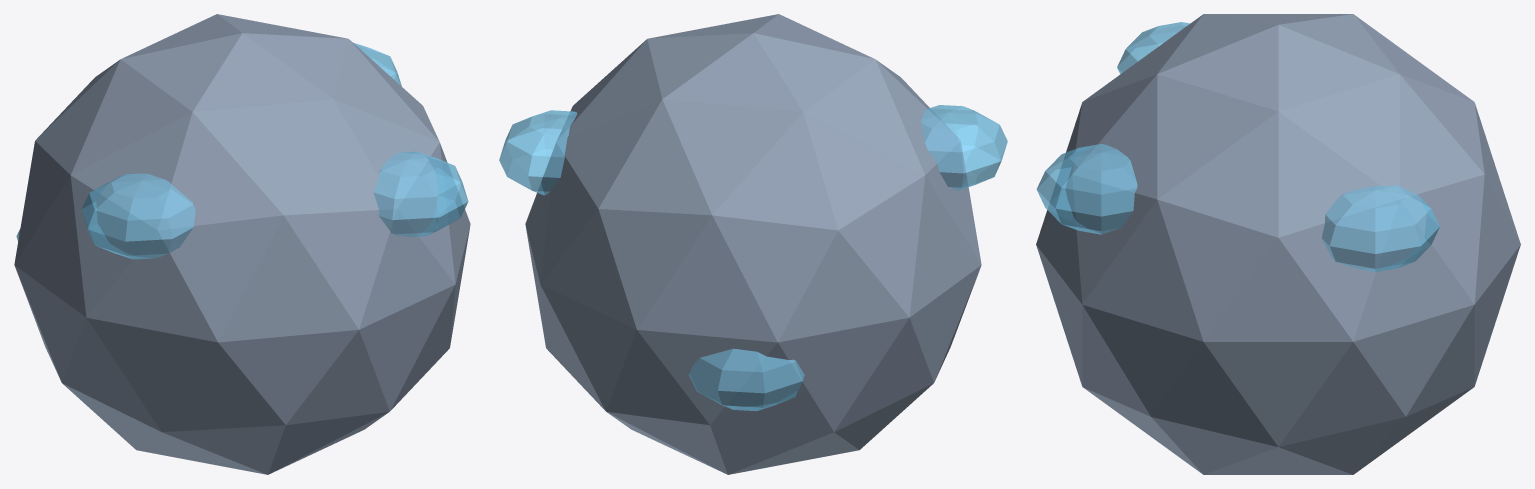
The model's file is prop_glacius_frozen_metal.fbx.
3 renders of one model, left to right at view 1: azimuth 30°, elevation 25°; view 2: azimuth 150°, elevation 25°; view 3: azimuth 270°, elevation 25°, orthographic. The views are drawn at different scales.
Visible parts, largest first — view 1: G_FrozenMetal_Ore, G_FrozenMetal_Ice_2, G_FrozenMetal_Ice_3, G_FrozenMetal_Ice_0; view 2: G_FrozenMetal_Ore, G_FrozenMetal_Ice_2, G_FrozenMetal_Ice_1, G_FrozenMetal_Ice_0; view 3: G_FrozenMetal_Ore, G_FrozenMetal_Ice_0, G_FrozenMetal_Ice_3, G_FrozenMetal_Ice_2.
Part boxes in pixels (left/top/right/bottom): G_FrozenMetal_Ore: left=14, top=14, right=470, bottom=474; G_FrozenMetal_Ice_2: left=81, top=173, right=195, bottom=259; G_FrozenMetal_Ice_3: left=373, top=151, right=468, bottom=237; G_FrozenMetal_Ice_0: left=353, top=42, right=401, bottom=86; G_FrozenMetal_Ore: left=525, top=14, right=981, bottom=474; G_FrozenMetal_Ice_2: left=921, top=105, right=1007, bottom=190; G_FrozenMetal_Ice_1: left=689, top=348, right=804, bottom=411; G_FrozenMetal_Ice_0: left=499, top=110, right=577, bottom=195; G_FrozenMetal_Ore: left=1036, top=14, right=1520, bottom=474; G_FrozenMetal_Ice_0: left=1322, top=185, right=1439, bottom=272; G_FrozenMetal_Ice_3: left=1036, top=144, right=1137, bottom=234; G_FrozenMetal_Ice_2: left=1117, top=22, right=1189, bottom=73.
Size of the model in its own units: 0.5988 by 0.6 by 0.6.
